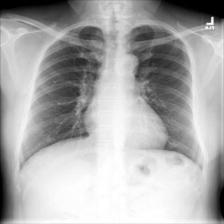normal: (11, 18, 212, 179)
